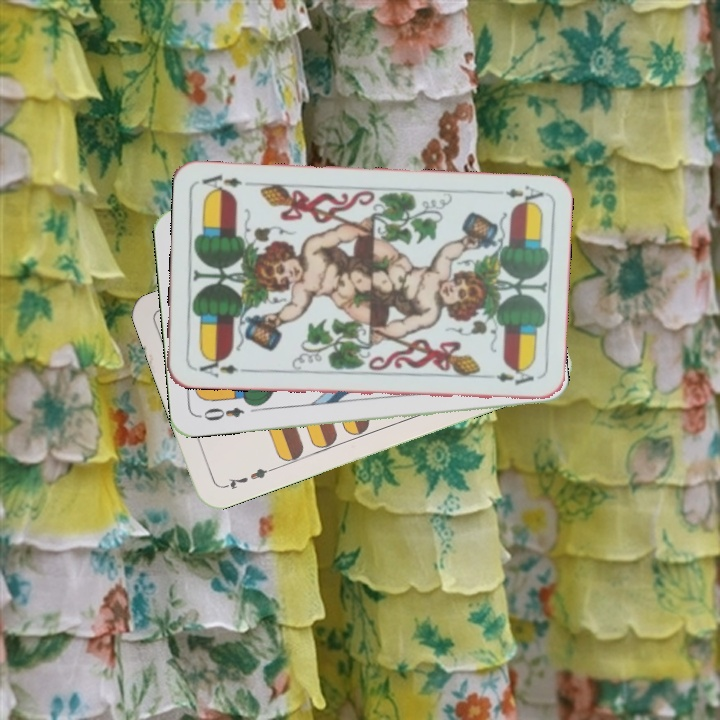E7: (219, 463, 276, 492)
EA: (488, 181, 546, 208), (190, 353, 240, 381)
EO: (200, 403, 247, 424)
